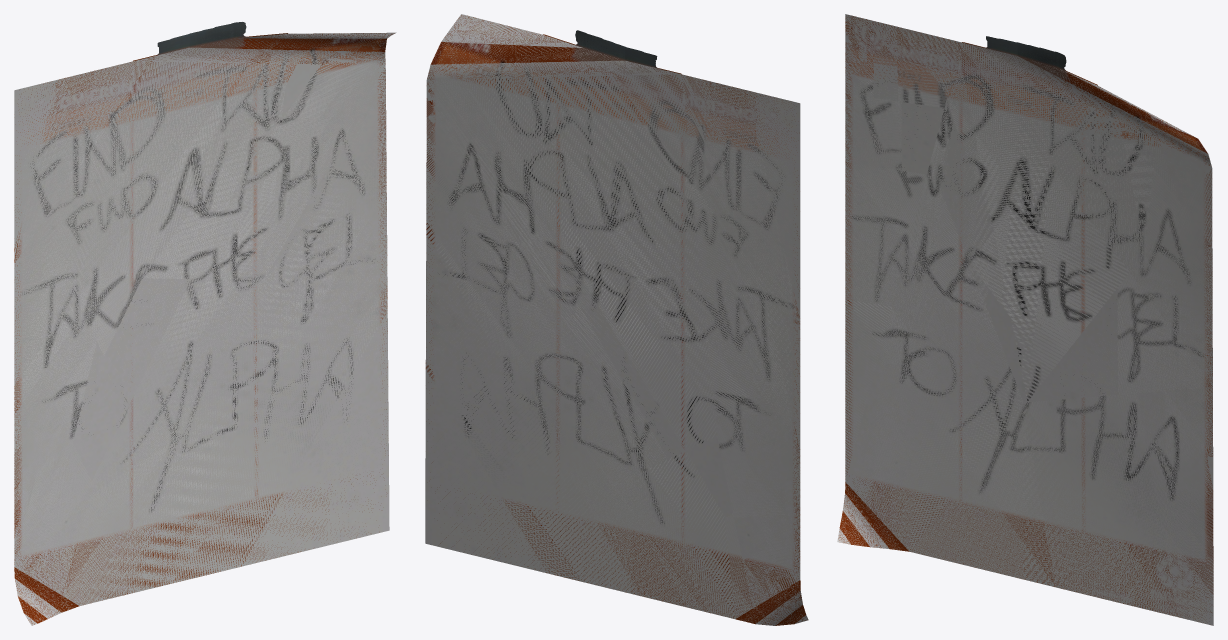
The model's file is notes_herber_find_tau.dae.
The picture shows the model from 3 angles, left to right: view 1: azimuth 30°, elevation 25°; view 2: azimuth 150°, elevation 25°; view 3: azimuth 330°, elevation 25°; orthographic projection.
Visible parts, largest first — view 1: find_tau; view 2: find_tau; view 3: find_tau.
Boxes of the visible parts, <box> form: find_tau: <box>14,22,396,625</box>; find_tau: <box>425,14,808,625</box>; find_tau: <box>837,14,1213,625</box>.
Size of the model in its own units: 0.2584 by 0.3638 by 0.0272.
